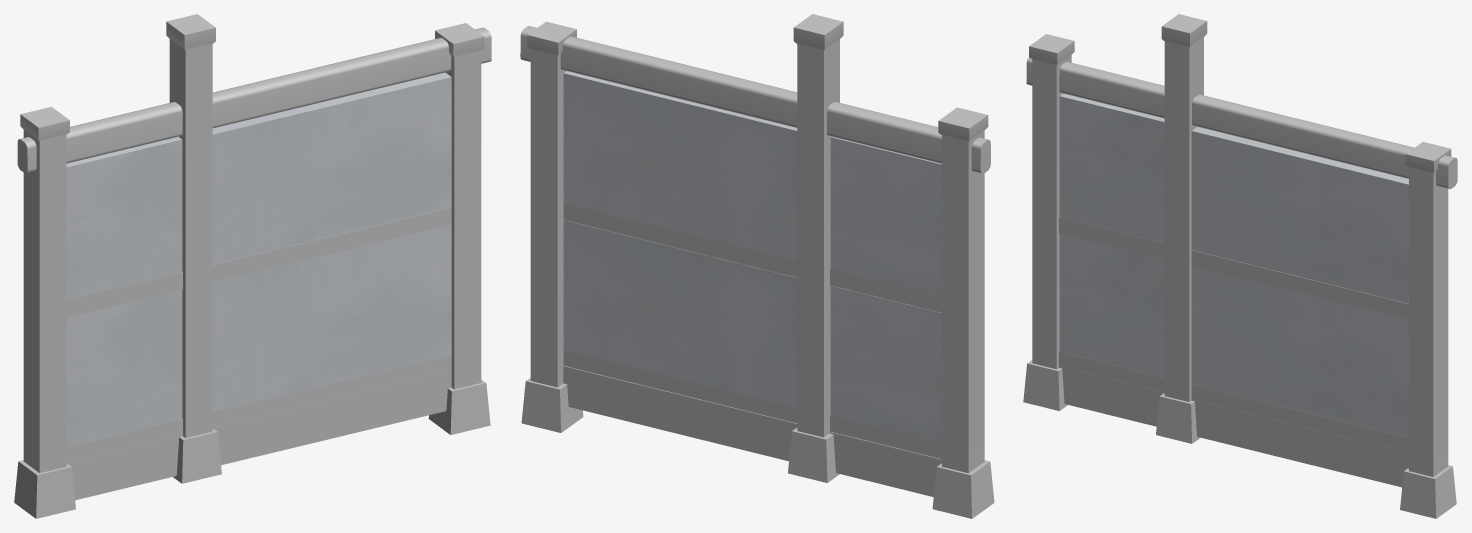
The model's file is SM_RoomWall_001.fbx.
3 renders of one model, left to right at view 1: azimuth 30°, elevation 25°; view 2: azimuth 150°, elevation 25°; view 3: azimuth 330°, elevation 25°, orthographic. The views are drawn at different scales.
Parts seen in each view (by area): view 1: SM_RoomWall_001; view 2: SM_RoomWall_001; view 3: SM_RoomWall_001.
Boxes of the visible parts, left/top/right/bottom form: SM_RoomWall_001: left=14, top=14, right=491, bottom=518; SM_RoomWall_001: left=520, top=14, right=994, bottom=518; SM_RoomWall_001: left=1023, top=14, right=1457, bottom=518.
Size of the model in its own units: 551 by 49.09 by 526.
